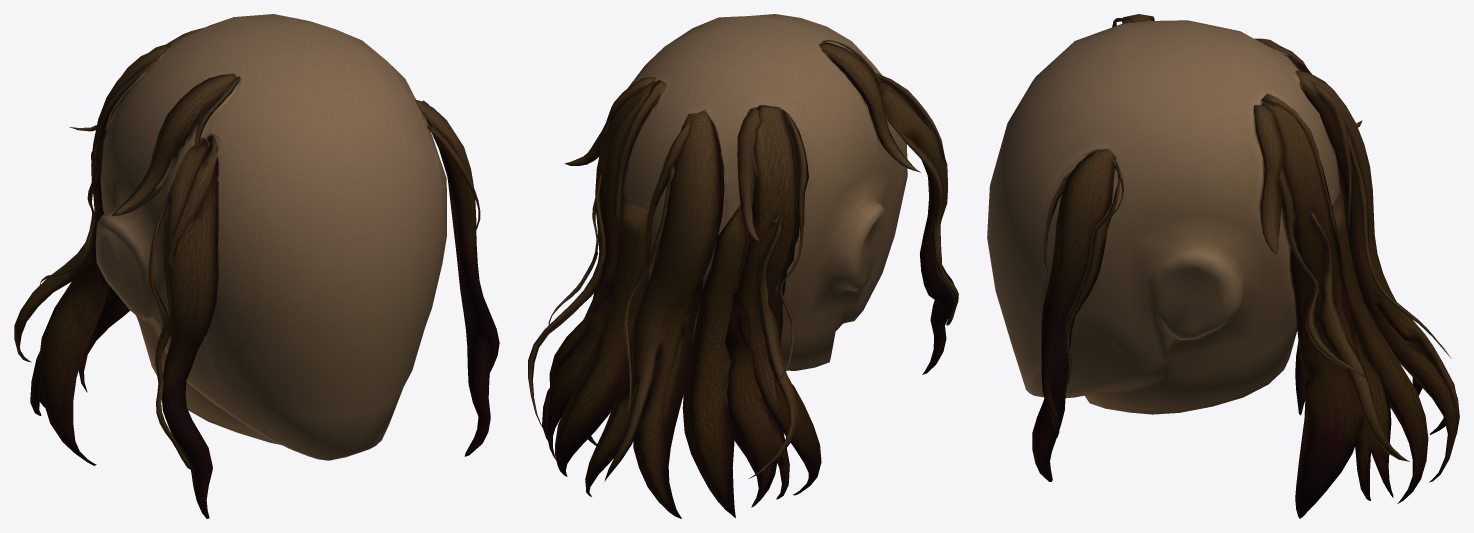
The model's file is SemiBaldHair.fbx.
3 renders of one model, left to right at view 1: azimuth 30°, elevation 25°; view 2: azimuth 150°, elevation 25°; view 3: azimuth 270°, elevation 25°, orthographic. The views are drawn at different scales.
Visible parts, largest first — view 1: tripo_part_3, tripo_part_0, tripo_part_4, tripo_part_5, tripo_part_8, tripo_part_12, tripo_part_6, tripo_part_19, tripo_part_2, tripo_part_18; view 2: tripo_part_3, tripo_part_2, tripo_part_4, tripo_part_15, tripo_part_14, tripo_part_1, tripo_part_0, tripo_part_12, tripo_part_8, tripo_part_13, tripo_part_10, tripo_part_6 (+6 smaller); view 3: tripo_part_3, tripo_part_1, tripo_part_5, tripo_part_2, tripo_part_14, tripo_part_10, tripo_part_7, tripo_part_9, tripo_part_11, tripo_part_16, tripo_part_20, tripo_part_21 (+1 smaller).
Part boxes in pixels (<box>): tripo_part_3: <box>95,14,446,460</box>; tripo_part_0: <box>148,137,219,518</box>; tripo_part_4: <box>30,45,168,465</box>; tripo_part_5: <box>415,99,499,456</box>; tripo_part_8: <box>112,73,237,215</box>; tripo_part_12: <box>14,151,94,362</box>; tripo_part_6: <box>40,59,156,284</box>; tripo_part_19: <box>168,134,218,268</box>; tripo_part_2: <box>79,27,203,392</box>; tripo_part_18: <box>427,125,480,232</box>; tripo_part_3: <box>622,14,907,370</box>; tripo_part_2: <box>585,110,724,518</box>; tripo_part_4: <box>725,105,821,507</box>; tripo_part_15: <box>682,204,749,517</box>; tripo_part_14: <box>555,201,651,476</box>; tripo_part_1: <box>542,81,655,459</box>; tripo_part_0: <box>878,79,958,374</box>; tripo_part_12: <box>748,216,798,478</box>; tripo_part_8: <box>818,43,920,172</box>; tripo_part_13: <box>737,106,760,240</box>; tripo_part_10: <box>528,173,605,428</box>; tripo_part_6: <box>777,109,808,384</box>; tripo_part_3: <box>987,20,1340,414</box>; tripo_part_1: <box>1261,102,1393,518</box>; tripo_part_5: <box>1032,150,1115,481</box>; tripo_part_2: <box>1295,70,1459,482</box>; tripo_part_14: <box>1332,189,1428,503</box>; tripo_part_10: <box>1310,210,1409,461</box>; tripo_part_7: <box>1254,105,1284,254</box>; tripo_part_9: <box>1278,168,1368,379</box>; tripo_part_11: <box>1065,174,1120,384</box>; tripo_part_16: <box>1345,125,1451,358</box>; tripo_part_20: <box>1309,81,1351,239</box>; tripo_part_21: <box>1261,94,1337,242</box>.
Size of the model in its own units: 0.7887 by 1 by 1.
